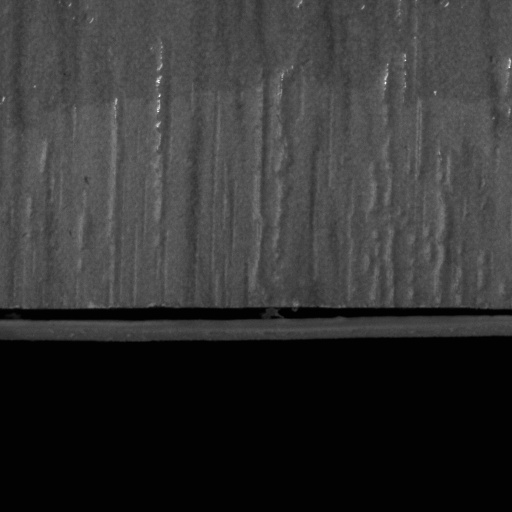kaijiao: (0, 302, 511, 345)
